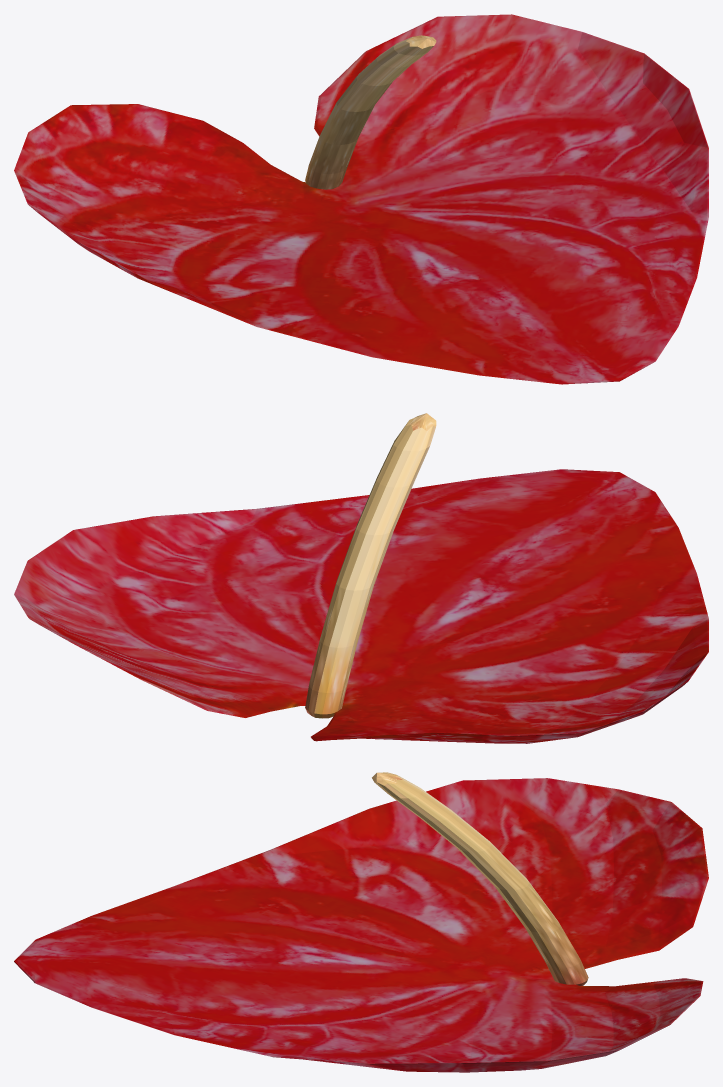
File: flower_火鹤花_花.fbx
3 renders of one model, top to bottom at view 1: azimuth 30°, elevation 25°; view 2: azimuth 150°, elevation 25°; view 3: azimuth 270°, elevation 25°, orthographic. The views are drawn at different scales.
Visible parts, largest first — view 1: Circle, 柱体; view 2: Circle, 柱体; view 3: Circle, 柱体.
Part boxes in pixels (<box>): Circle: <box>14,14,708,384</box>; 柱体: <box>305,35,436,189</box>; Circle: <box>14,469,708,743</box>; 柱体: <box>305,413,436,718</box>; Circle: <box>14,778,708,1072</box>; 柱体: <box>372,772,588,985</box>.
Bounding box in the file's own units: 0.9906 × 0.3454 × 1.03.
2 materials, 2 textured.
